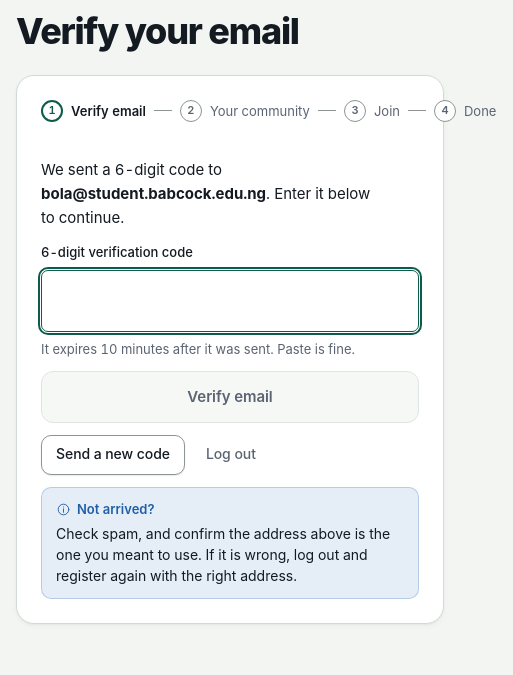
Scenario: verify email › requests a new code and starts the countdown the server specified
Click the button "Send a new code" at (113, 455), box x1=41 y1=435 x2=185 y2=475
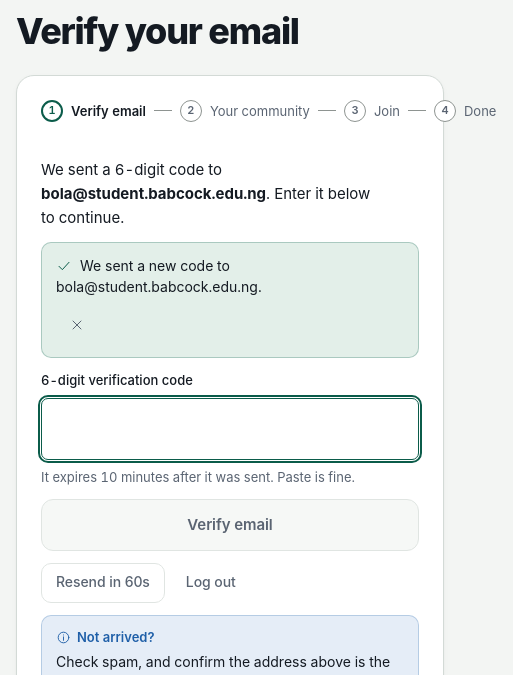
Expected: the button "Resend in 60s" is disabled, x1=41 y1=563 x2=165 y2=603
